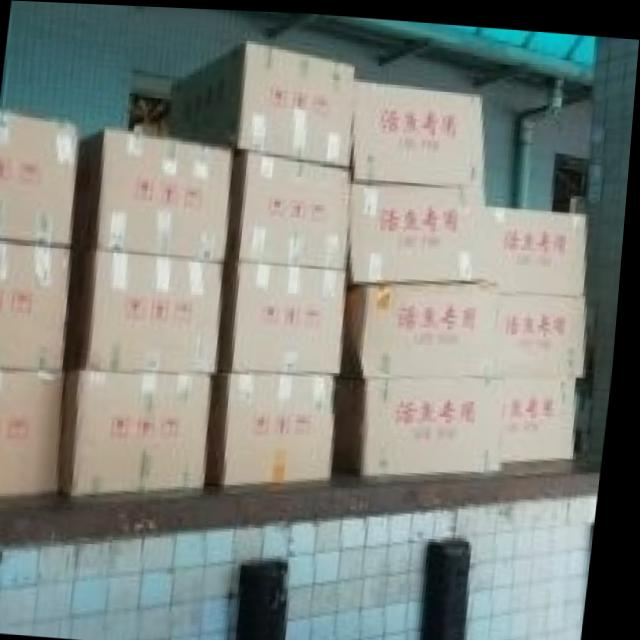box: (172, 38, 358, 165), (77, 128, 236, 259), (71, 250, 228, 373), (68, 369, 219, 494), (342, 372, 508, 474), (212, 370, 344, 484), (345, 277, 500, 374), (223, 260, 350, 372), (231, 149, 353, 265), (351, 78, 487, 181), (350, 180, 486, 282), (0, 111, 83, 245), (0, 240, 77, 371), (0, 368, 71, 499), (488, 198, 589, 287), (503, 287, 590, 372), (506, 371, 582, 457)
